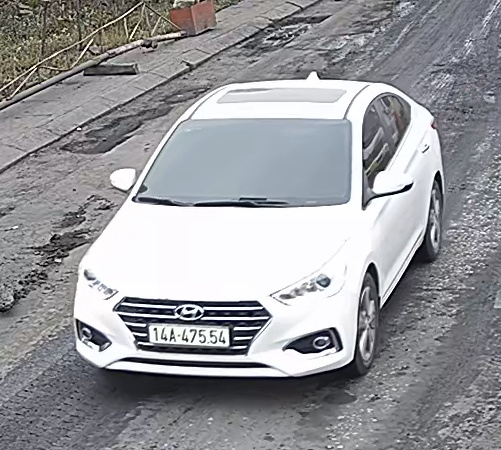vehicle plate: (146, 319, 236, 348)
